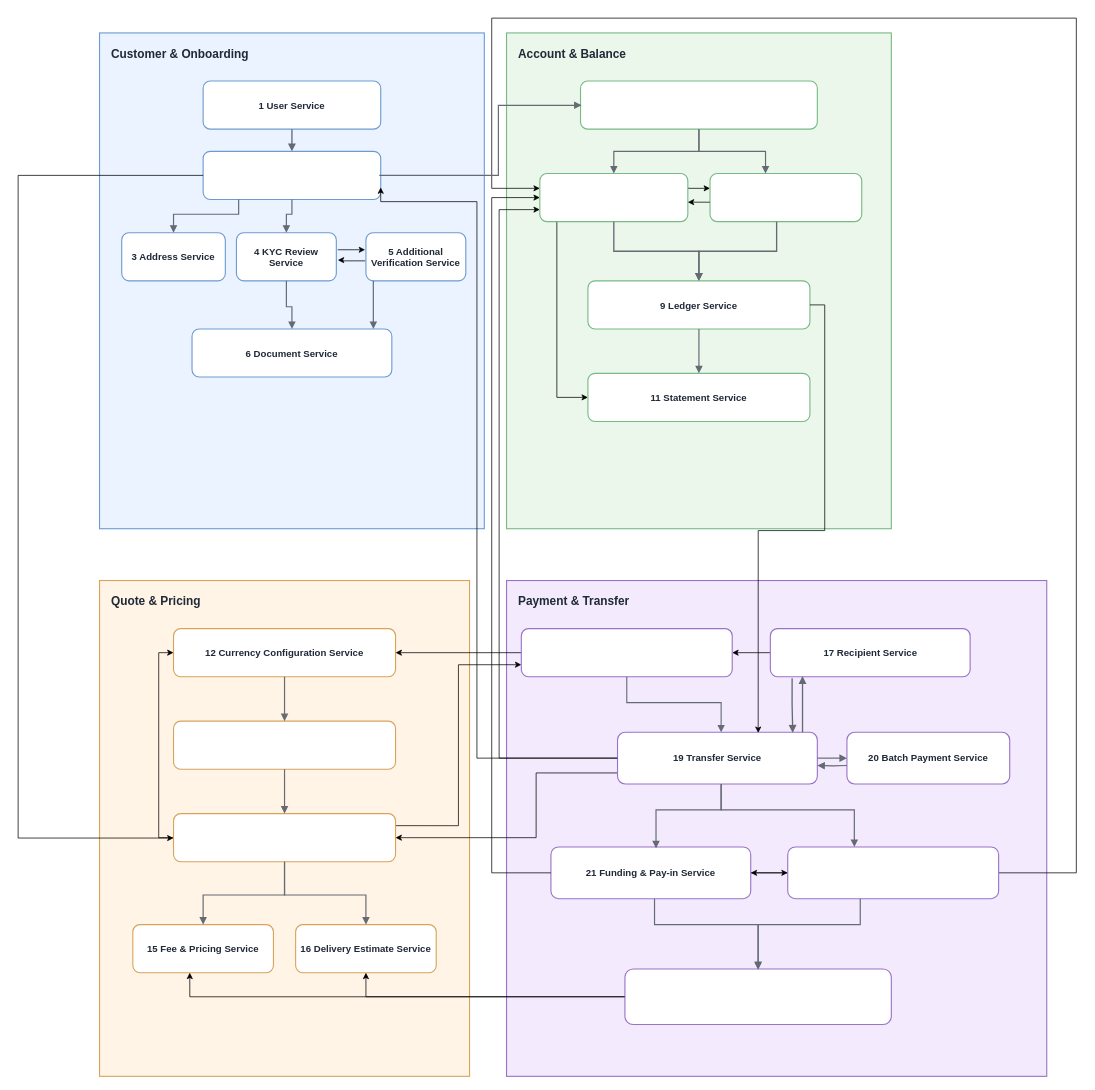
The diagram is 1095 pixels wide and 1090 high, and some of its shapes have lost their labels. The shapes that lost their labels are listed below. From the top down, each one's centre as x and y in pixels, then its label:
At (699,104): "7 Multi-Currency Account Service".
At (291,175): "2 Profile Service".
At (613,197): "8 Balance Service".
At (785,197): "10 Bank Account Details Service".
At (626,652): "18 Recipient Validation Service".
At (284,744): "13 Exchange Rate Service".
At (284,837): "14 Quote Service".
At (893,872): "22 Incoming Transfer Service".
At (758,996): "23 Payout & Banking Rail Service".
